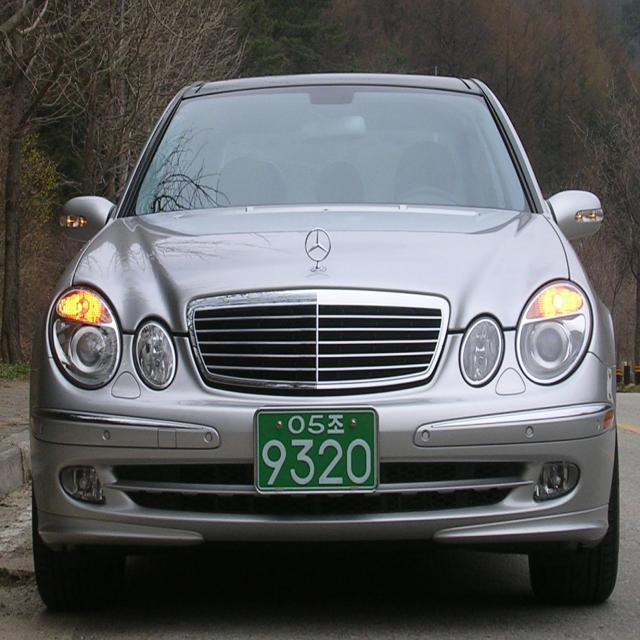car: (236, 391, 401, 509)
